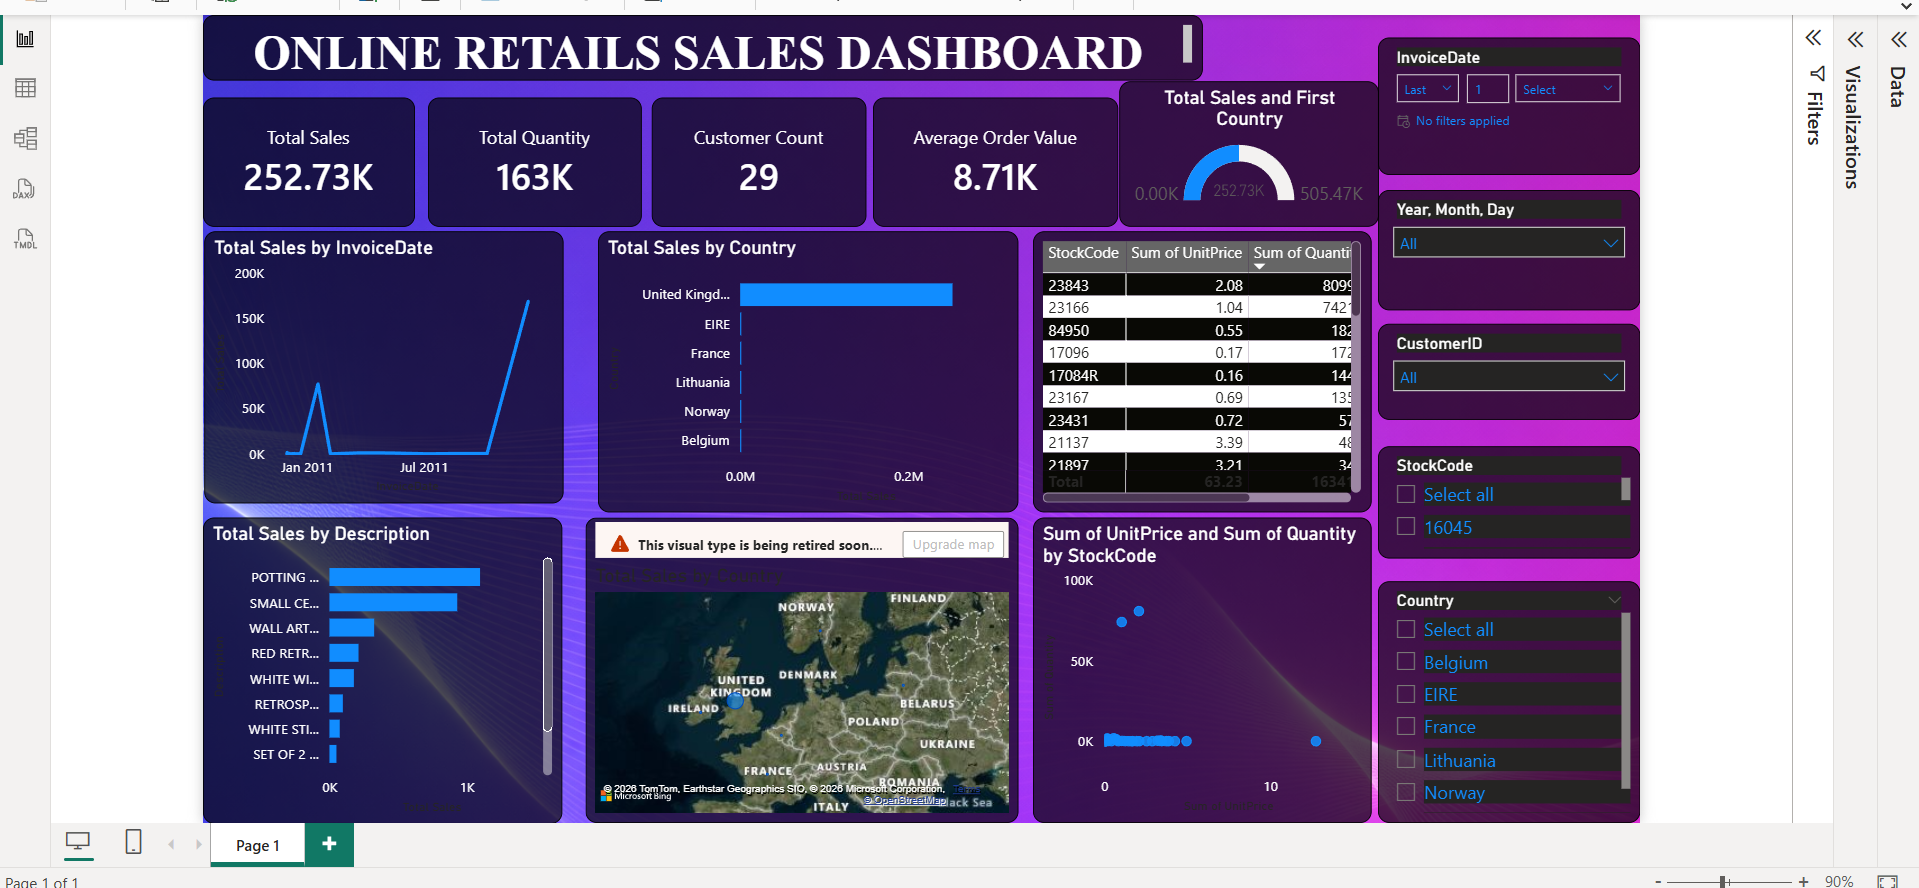

The page's visual inventory and layout, read from the dashboard file:
{"tool":"powerbi","page":{"name":"Page 1","canvas":[1280,720],"ordinal":0},"visuals":[{"type":"cardVisual","fields":{"Data":["Online Retail.Total Sales"]},"box":[0,73.2,188.7,115.5],"z":0},{"type":"textbox","box":[0,0,890,58.6],"z":1000},{"type":"cardVisual","fields":{"Data":["Online Retail.Total Quantity"]},"box":[200,73.2,190.1,115.5],"z":2000},{"type":"cardVisual","fields":{"Data":["Online Retail.Customer Count"]},"box":[400,73.2,191.5,115.5],"z":3000},{"type":"cardVisual","fields":{"Data":["Online Retail.Average Order Value"]},"box":[597.2,73.2,218.3,115.5],"z":4000},{"type":"gauge","fields":{"Y":["Online Retail.Total Sales"]},"box":[815.5,59.2,231,129.6],"z":5000},{"type":"lineChart","fields":{"Category":["Online Retail.InvoiceDate"],"Y":["Online Retail.Total Sales"]},"box":[1.4,193,319.7,242.3],"z":6000},{"type":"barChart","fields":{"Category":["Online Retail.Description"],"Y":["Online Retail.Total Sales"]},"box":[0,447.3,320.1,272.5],"z":7000},{"type":"clusteredBarChart","fields":{"Category":["Online Retail.Country"],"Y":["Online Retail.Total Sales"]},"box":[352.1,193,374.6,250.7],"z":8000},{"type":"pivotTable","fields":{"Rows":["Online Retail.StockCode"],"Values":["Sum(Online Retail.UnitPrice)","Sum(Online Retail.Quantity)","Online Retail.Total Sales"]},"box":[739.4,193,301.4,250.7],"z":9000},{"type":"scatterChart","fields":{"X":["Sum(Online Retail.UnitPrice)"],"Y":["Sum(Online Retail.Quantity)"],"Category":["Online Retail.StockCode"]},"box":[739.4,447.9,301.4,271.8],"z":10000},{"type":"map","fields":{"Category":["Online Retail.Country"],"Size":["Online Retail.Total Sales"]},"box":[340.8,447.9,385.9,271.8],"z":11000},{"type":"slicer","fields":{"Values":["Dim_Date.Date.Variation.Date Hierarchy.Year","Dim_Date.Date.Variation.Date Hierarchy.Month","Dim_Date.Date.Variation.Date Hierarchy.Day"]},"box":[1046.5,156.3,233.8,107],"z":12000},{"type":"slicer","fields":{"Values":["Online Retail.Country"]},"box":[1046.5,504.2,233.8,215.5],"z":13000},{"type":"slicer","fields":{"Values":["Online Retail.CustomerID"]},"box":[1046.5,274.6,233.8,85.9],"z":14000},{"type":"slicer","fields":{"Values":["Online Retail.StockCode"]},"box":[1046.5,384.5,233.8,100],"z":15000},{"type":"slicer","fields":{"Values":["Online Retail.InvoiceDate"]},"box":[1046.5,19.7,233.8,122.5],"z":16000}]}

Visuals, with their boxes on the page's 1280x720 design canvas (x1, y1, x2, y2). These are canvas units, not pixel positions in the 1919x888 screenshot, which may show the page scaled, cropped or inside an application window:
cardVisual - Online Retail.Total Sales: bbox(0, 73, 189, 189)
textbox: bbox(0, 0, 890, 59)
cardVisual - Online Retail.Total Quantity: bbox(200, 73, 390, 189)
cardVisual - Online Retail.Customer Count: bbox(400, 73, 592, 189)
cardVisual - Online Retail.Average Order Value: bbox(597, 73, 816, 189)
gauge - Online Retail.Total Sales: bbox(816, 59, 1046, 189)
lineChart - Online Retail.InvoiceDate x Online Retail.Total Sales: bbox(1, 193, 321, 435)
barChart - Online Retail.Description x Online Retail.Total Sales: bbox(0, 447, 320, 720)
clusteredBarChart - Online Retail.Country x Online Retail.Total Sales: bbox(352, 193, 727, 444)
pivotTable - Online Retail.StockCode x Sum(Online Retail.UnitPrice): bbox(739, 193, 1041, 444)
scatterChart - Sum(Online Retail.UnitPrice) x Sum(Online Retail.Quantity): bbox(739, 448, 1041, 720)
map - Online Retail.Country x Online Retail.Total Sales: bbox(341, 448, 727, 720)
slicer - Dim_Date.Date.Variation.Date Hierarchy.Year x Dim_Date.Date.Variation.Date Hierarchy.Month: bbox(1046, 156, 1280, 263)
slicer - Online Retail.Country: bbox(1046, 504, 1280, 720)
slicer - Online Retail.CustomerID: bbox(1046, 275, 1280, 360)
slicer - Online Retail.StockCode: bbox(1046, 384, 1280, 484)
slicer - Online Retail.InvoiceDate: bbox(1046, 20, 1280, 142)
